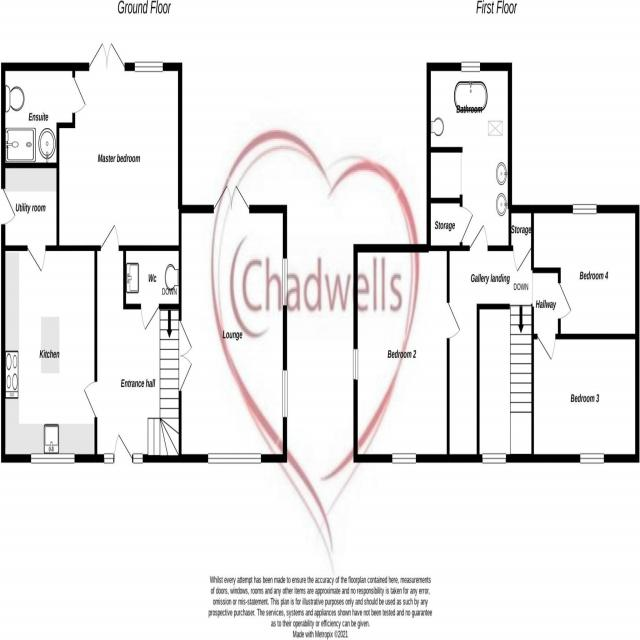DOOR: (446, 293, 463, 345), (97, 222, 121, 251), (534, 333, 558, 362), (1, 182, 16, 228), (72, 71, 87, 116), (557, 277, 572, 322), (84, 377, 98, 425), (139, 304, 162, 333), (25, 244, 47, 274), (468, 221, 489, 252), (114, 431, 134, 463), (512, 244, 534, 273), (459, 204, 474, 245)
DOUBLE DOOR: (178, 319, 194, 395), (88, 40, 126, 71)
ROOM: (177, 174, 287, 462), (56, 40, 182, 252), (353, 244, 464, 464), (1, 244, 97, 463), (426, 61, 513, 253), (531, 205, 639, 340), (531, 333, 639, 463)
WINDOW: (207, 449, 262, 466), (29, 450, 76, 466), (281, 366, 290, 421), (391, 449, 417, 466), (134, 60, 164, 74), (571, 201, 597, 217), (481, 452, 507, 467), (351, 345, 360, 384), (578, 452, 605, 465), (460, 60, 481, 74), (103, 453, 114, 465), (133, 452, 143, 465)
